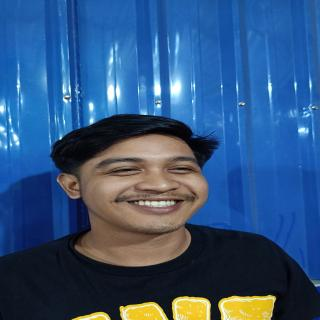Senang: (80, 132, 214, 236)
